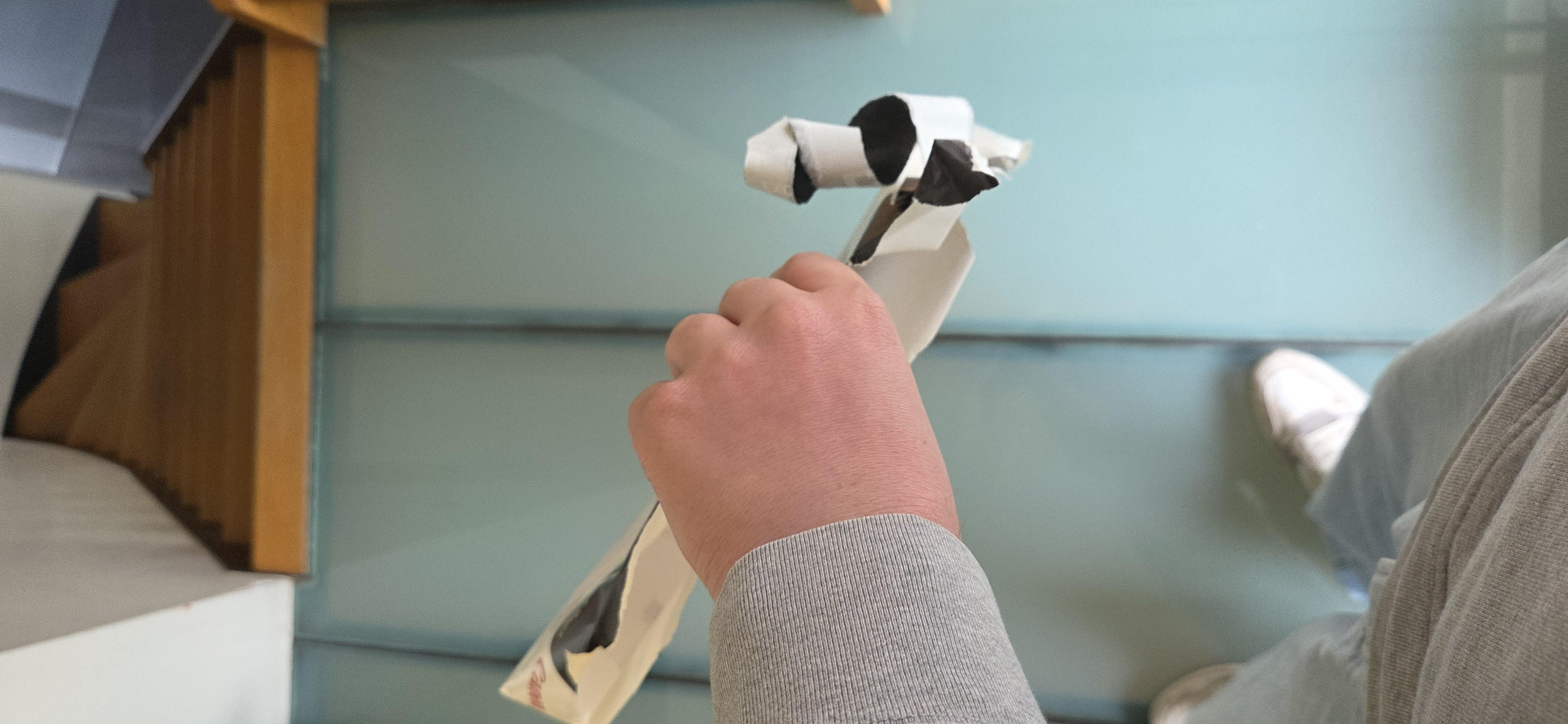Cardboard: (0, 225, 1396, 470)
